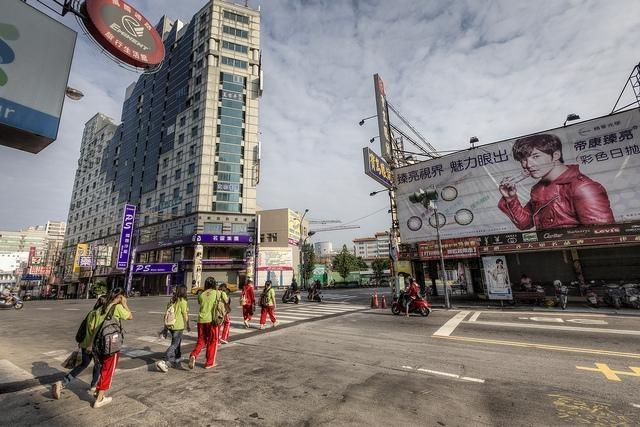car: (192, 280, 236, 294)
motorcycle: (282, 281, 626, 310), (391, 290, 432, 317), (556, 282, 574, 310), (309, 285, 322, 302)
